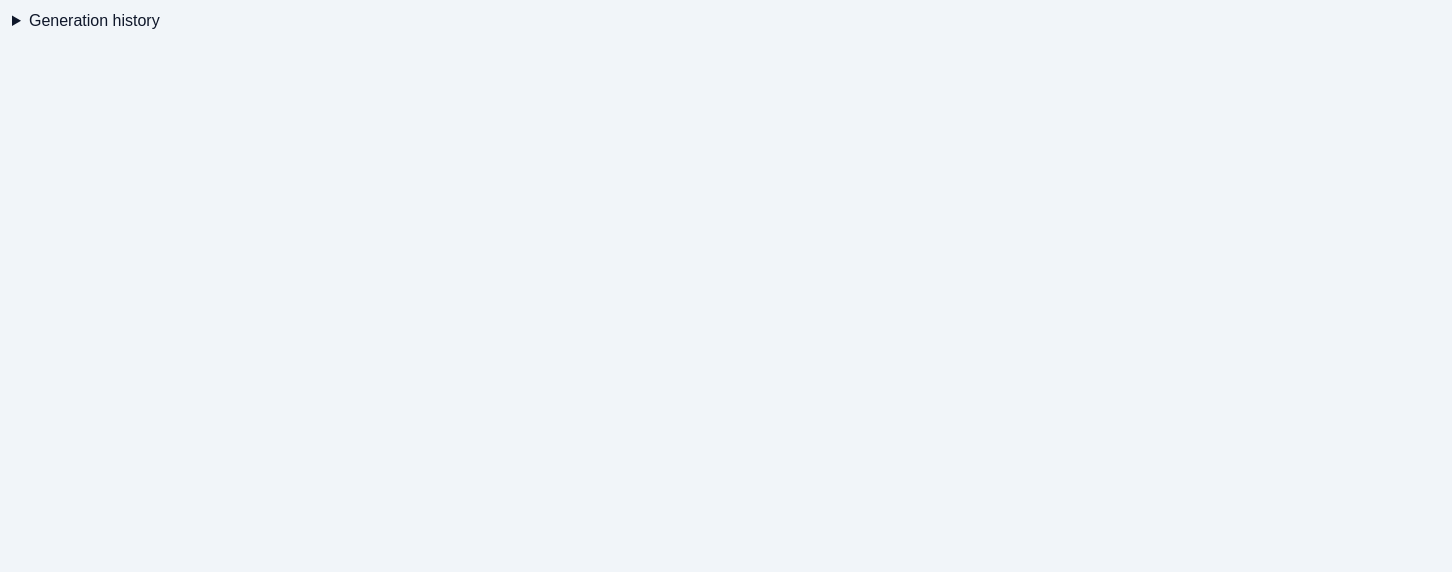
it: shows recorded format and keeps legacy or unrecognized formats unavailable
The width and height of the screenshot is (1452, 572).
Click the heading "Generation history" at (94, 20), box [29,12,160,29]
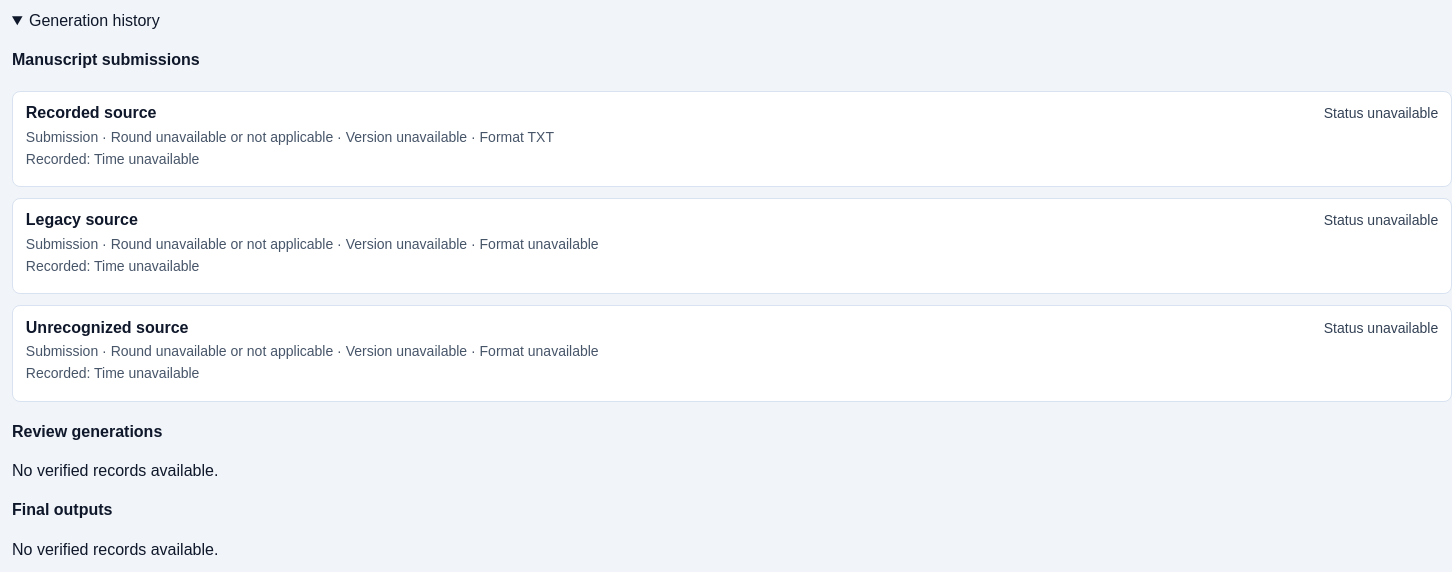
Now the list item "Recorded source" shows "Format TXT", box [12,90,1451,187]
Now the list item "Legacy source" shows "Format unavailable", box [12,198,1451,294]
Now the list item "Unrecognized source" shows "Format unavailable", box [12,305,1451,402]
